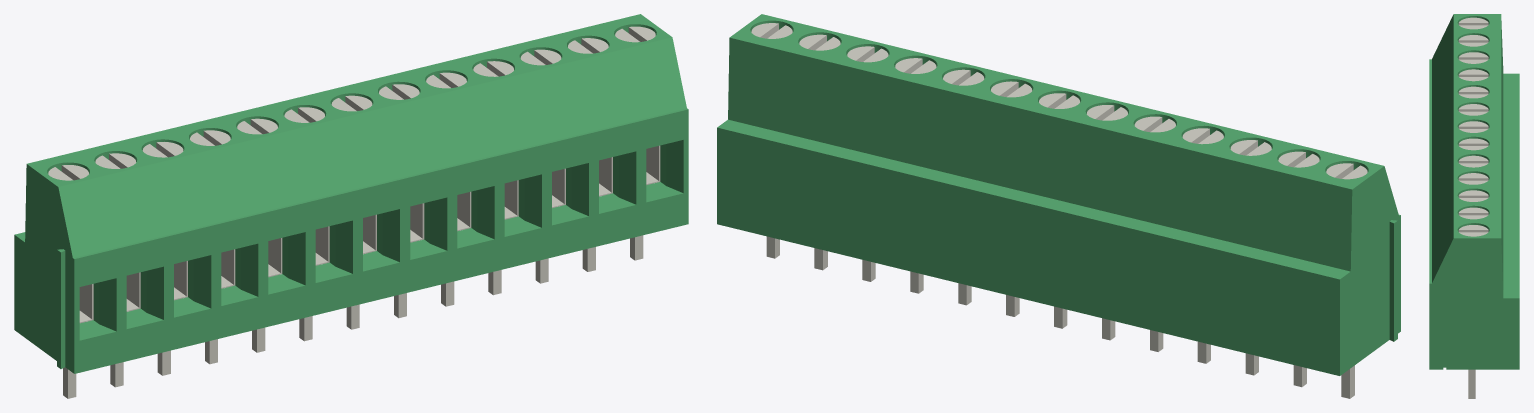
Rendered from kc-terminalblock_phoenix_mkds-3-13-5.08_1x13_p5.08mm_horizontal.glb.
The picture shows the model from 3 angles, left to right: view 1: azimuth 30°, elevation 25°; view 2: azimuth 150°, elevation 25°; view 3: azimuth 270°, elevation 25°; orthographic projection. The views are drawn at different scales.
Visible parts, largest first — view 1: 0.08333333333333333_0.4166666666666667_0.16666666666666666_0, 0.6666666666666666_0.6666666666666666_0.5833333333333334_0.8; view 2: 0.08333333333333333_0.4166666666666667_0.16666666666666666_0, 0.6666666666666666_0.6666666666666666_0.5833333333333334_0.8; view 3: 0.08333333333333333_0.4166666666666667_0.16666666666666666_0, 0.6666666666666666_0.6666666666666666_0.5833333333333334_0.8.
Part boxes in pixels (box(x1,y1,x2,y2)): 0.08333333333333333_0.4166666666666667_0.16666666666666666_0: box(14, 14, 688, 373); 0.6666666666666666_0.6666666666666666_0.5833333333333334_0.8: box(48, 26, 660, 398); 0.08333333333333333_0.4166666666666667_0.16666666666666666_0: box(717, 14, 1400, 375); 0.6666666666666666_0.6666666666666666_0.5833333333333334_0.8: box(751, 23, 1367, 398); 0.08333333333333333_0.4166666666666667_0.16666666666666666_0: box(1429, 14, 1519, 369); 0.6666666666666666_0.6666666666666666_0.5833333333333334_0.8: box(1458, 17, 1488, 398).
Size of the model in its own units: 6.66 by 2.3 by 1.12.
